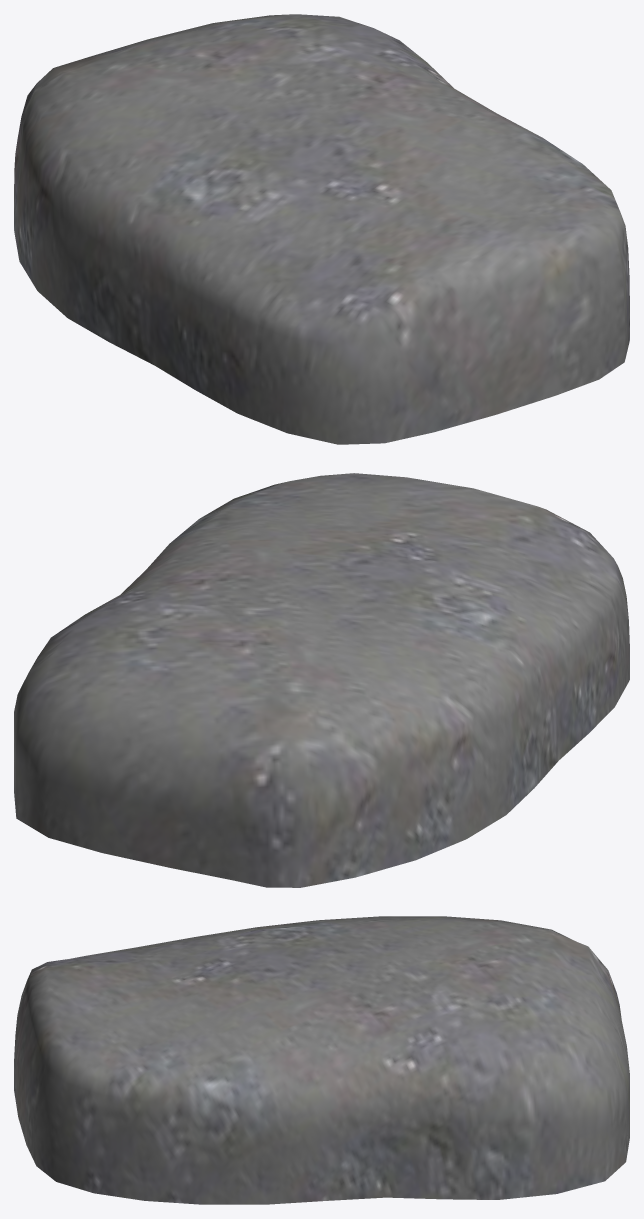
File: SM_Sun_Dae_Stone_L.fbx
3 renders of one model, top to bottom at view 1: azimuth 30°, elevation 25°; view 2: azimuth 150°, elevation 25°; view 3: azimuth 270°, elevation 25°, orthographic. The views are drawn at different scales.
Parts seen in each view (by area): view 1: SM_Sun_Dae_Stone_L; view 2: SM_Sun_Dae_Stone_L; view 3: SM_Sun_Dae_Stone_L.
Boxes of the visible parts, box(x1,y1,x2,y2) form: SM_Sun_Dae_Stone_L: box(14, 14, 629, 444); SM_Sun_Dae_Stone_L: box(14, 473, 629, 887); SM_Sun_Dae_Stone_L: box(14, 916, 629, 1204).
Bounding box in the file's own units: 58.1 × 21.87 × 82.93.
